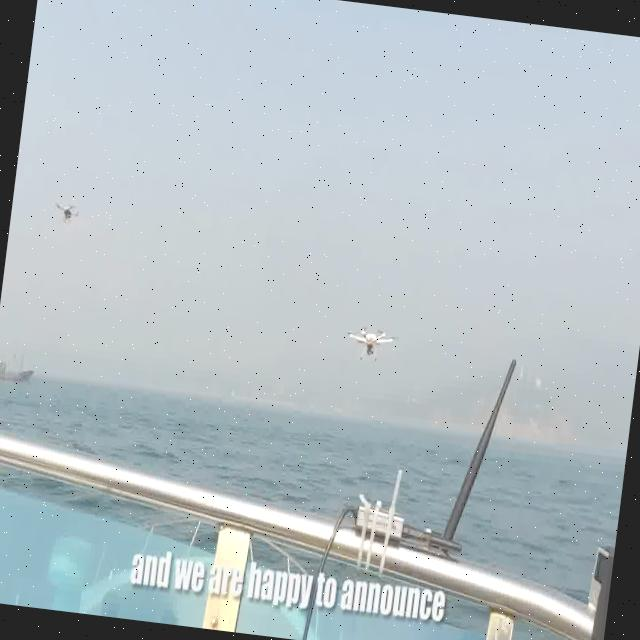drone: (341, 315, 397, 368), (50, 193, 79, 228)
